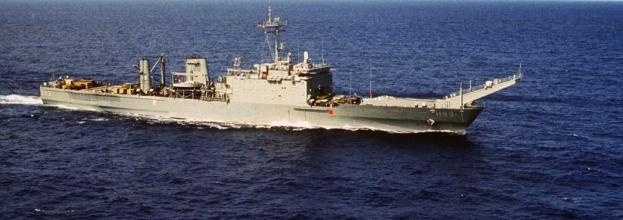warship: (27, 12, 537, 134)
